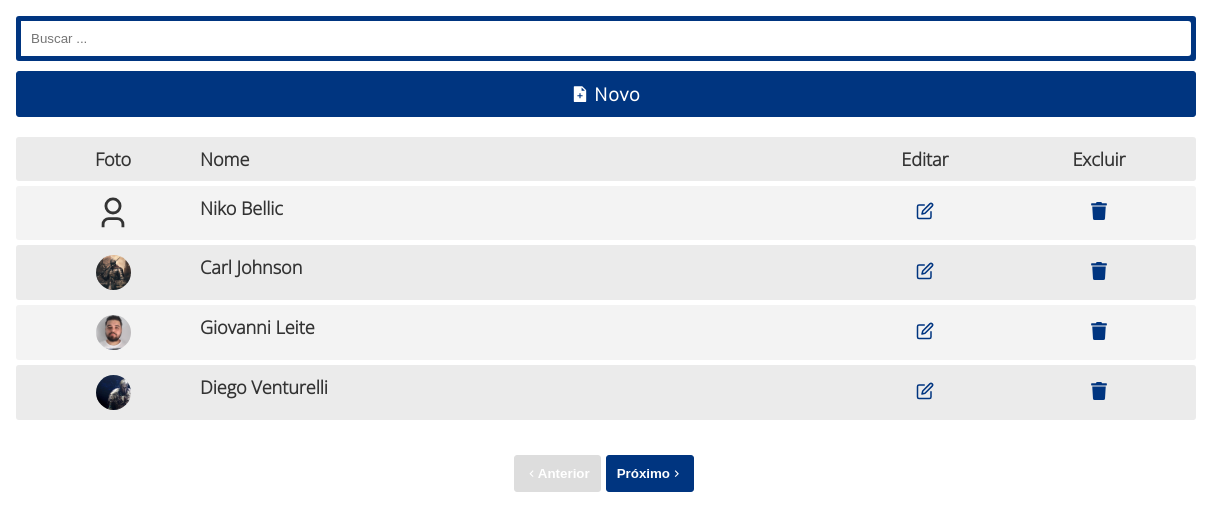
<Home /> › should change visible contact list
Expected: the link "Niko Bellic" is shown, [200, 196, 283, 220]
Expected: the link "Carl Johnson" is shown, [200, 255, 302, 279]
Click the button "Próximo" at (650, 474), box [606, 455, 694, 492]
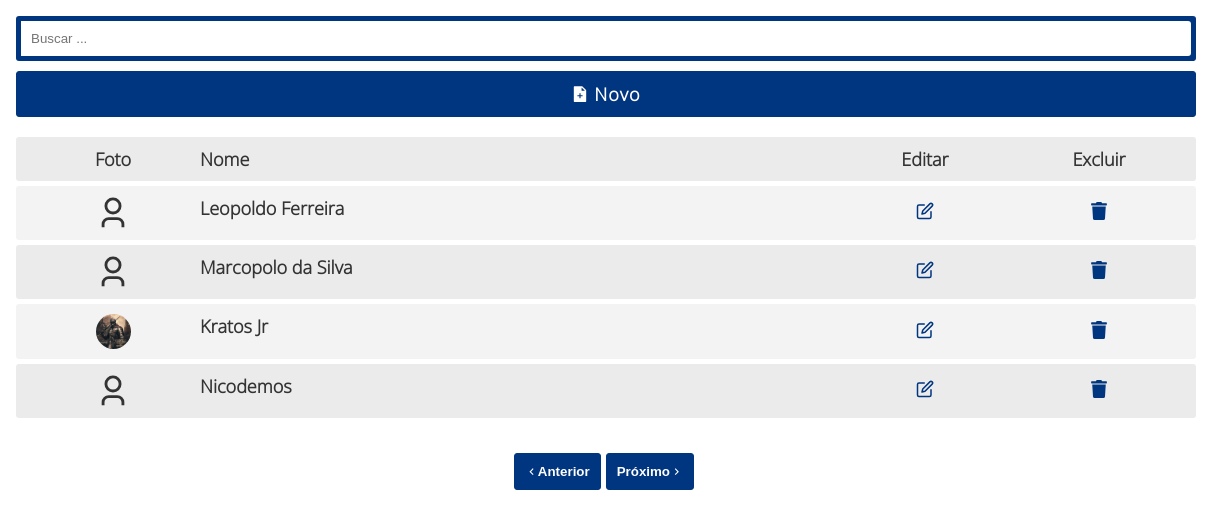
Result: the link "Niko Bellic" is gone
Result: the link "Carl Johnson" is gone
Result: the link "Leopoldo Ferreira" is shown at [200, 196, 344, 220]
